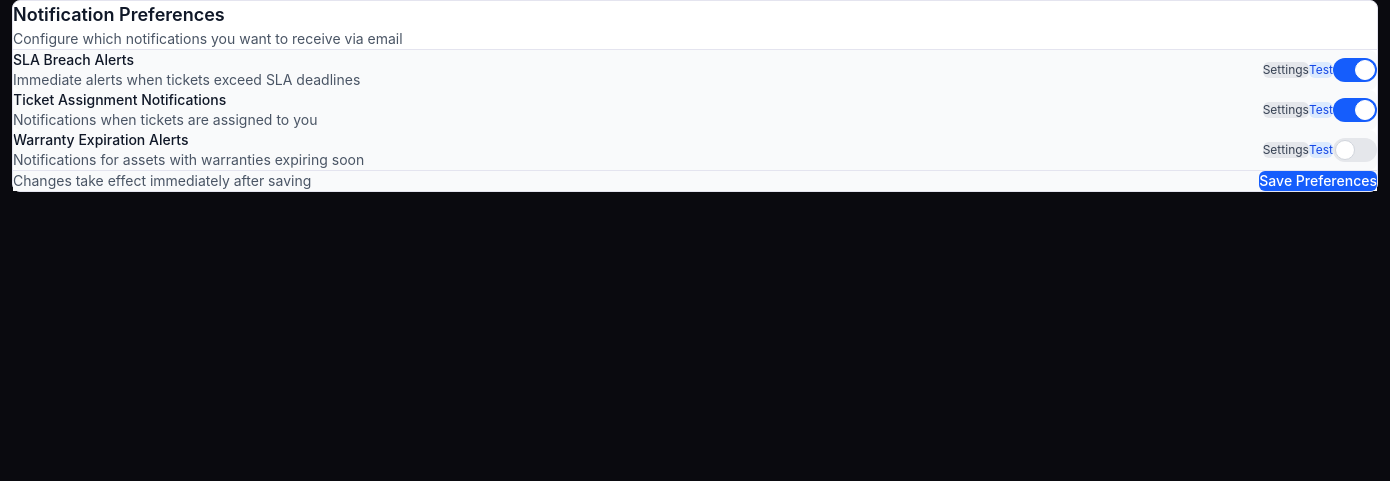
it: NotificationPreferences › expands and collapses settings panel
Click the button "Settings" in the row of "SLA Breach Alerts". click: [1286, 70]
box: [1263,62,1309,78]
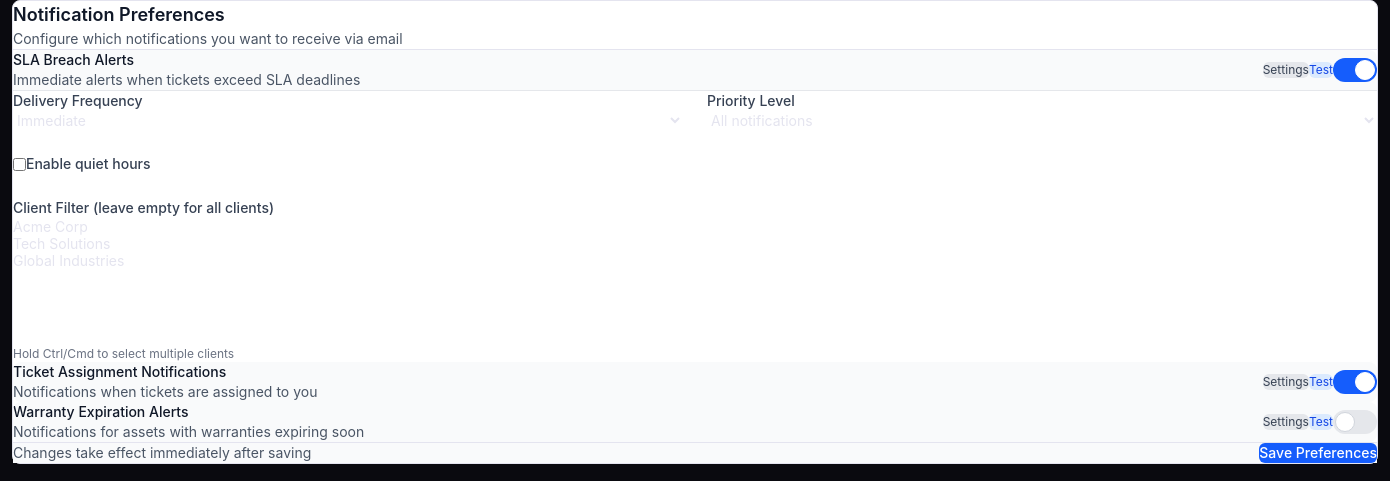
Expected: the text "Delivery Frequency" is shown, [13,92,143,109]
Expected: the text "Priority Level" is shown, [707,92,795,109]
Note: Close settings
Click the button "Settings" in the row of "SLA Breach Alerts". click: [1286, 70]
box: [1263,62,1309,78]
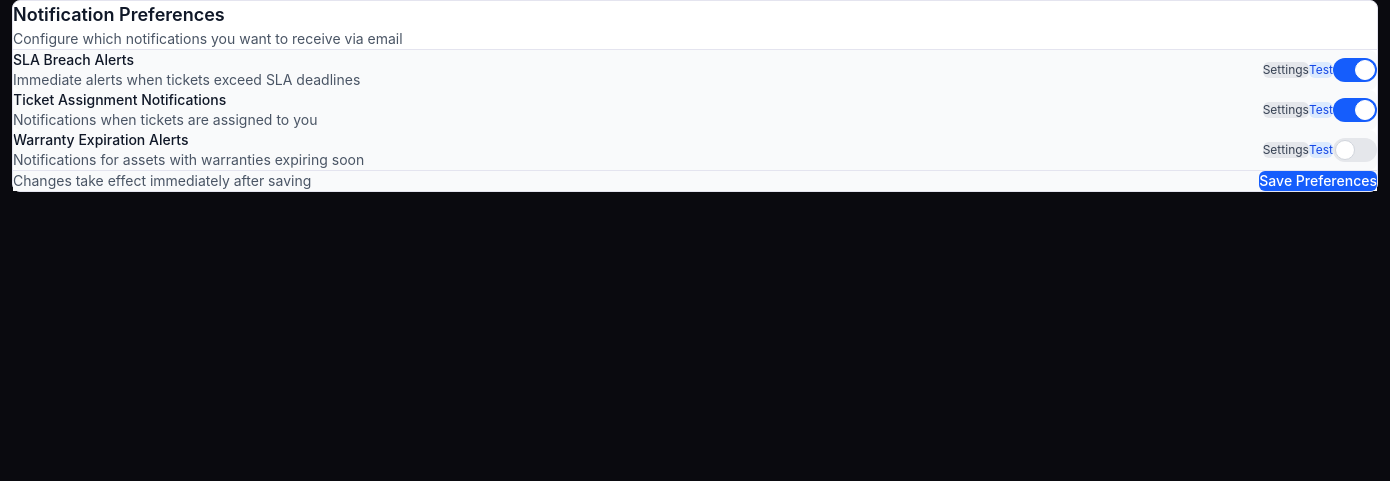
Expected: the text "Delivery Frequency" is gone
